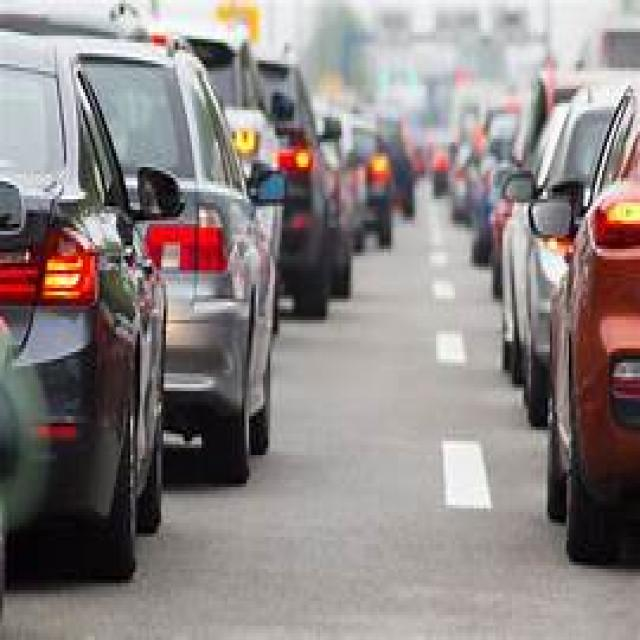Car: (1, 15, 350, 603), (489, 86, 640, 562)
